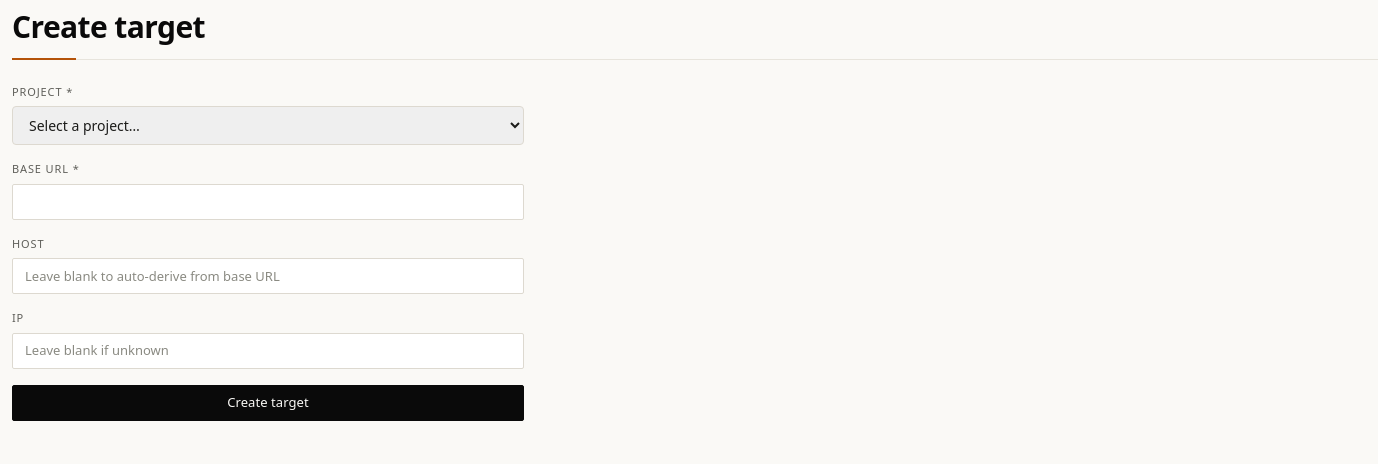
Test case: CreateTarget — base_url validation (no network call) › rejects "https://" with empty authority
Select "Local Lab" in the dropdown labelled "Project *" at [268, 126], box [12, 106, 524, 145]
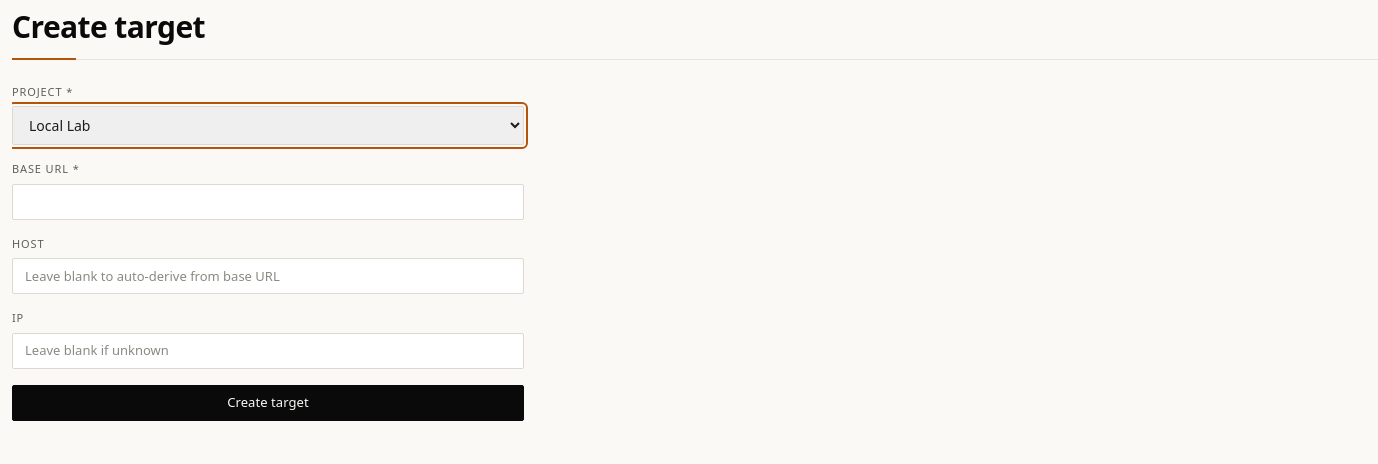
Type "https://" into the field labelled "Base URL *" at [268, 202], box [12, 184, 524, 220]
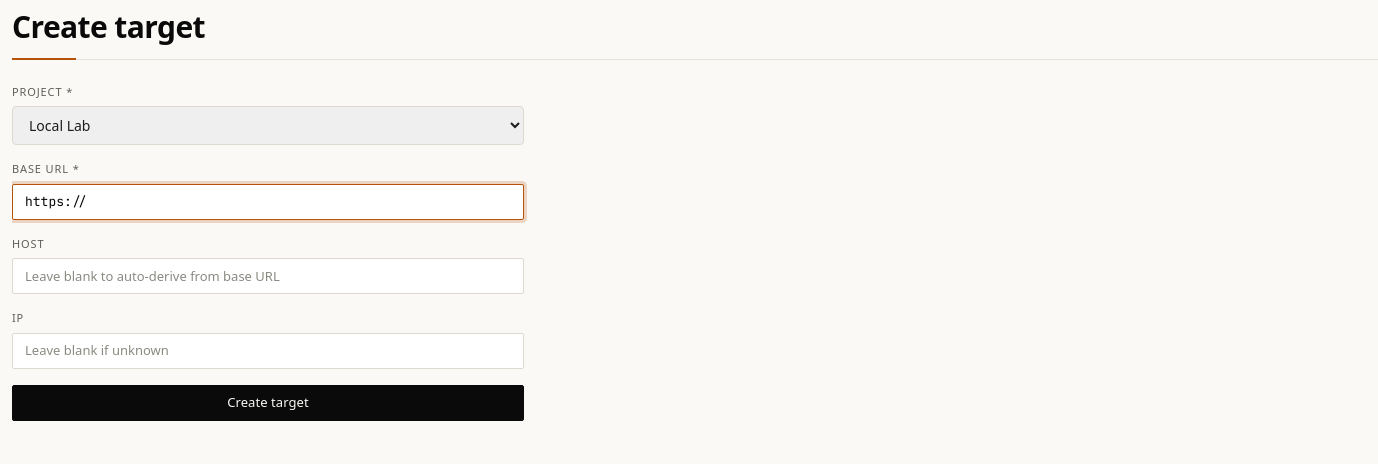
Click the button "Create target" at [268, 402], box [12, 384, 524, 420]
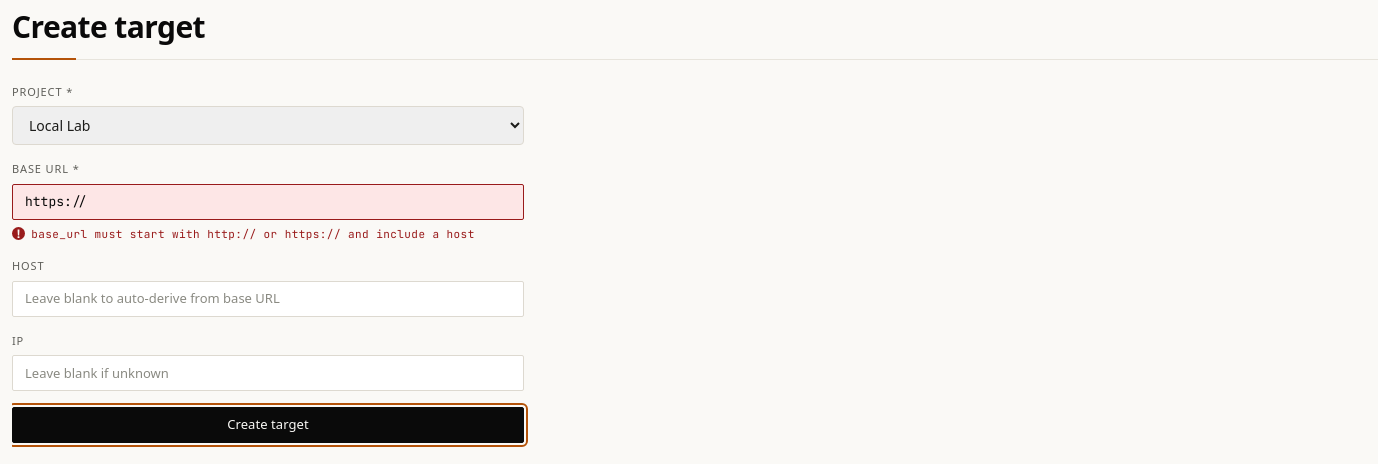
Expected: the text "must start with http:// or https://" is shown, [31, 226, 475, 240]
